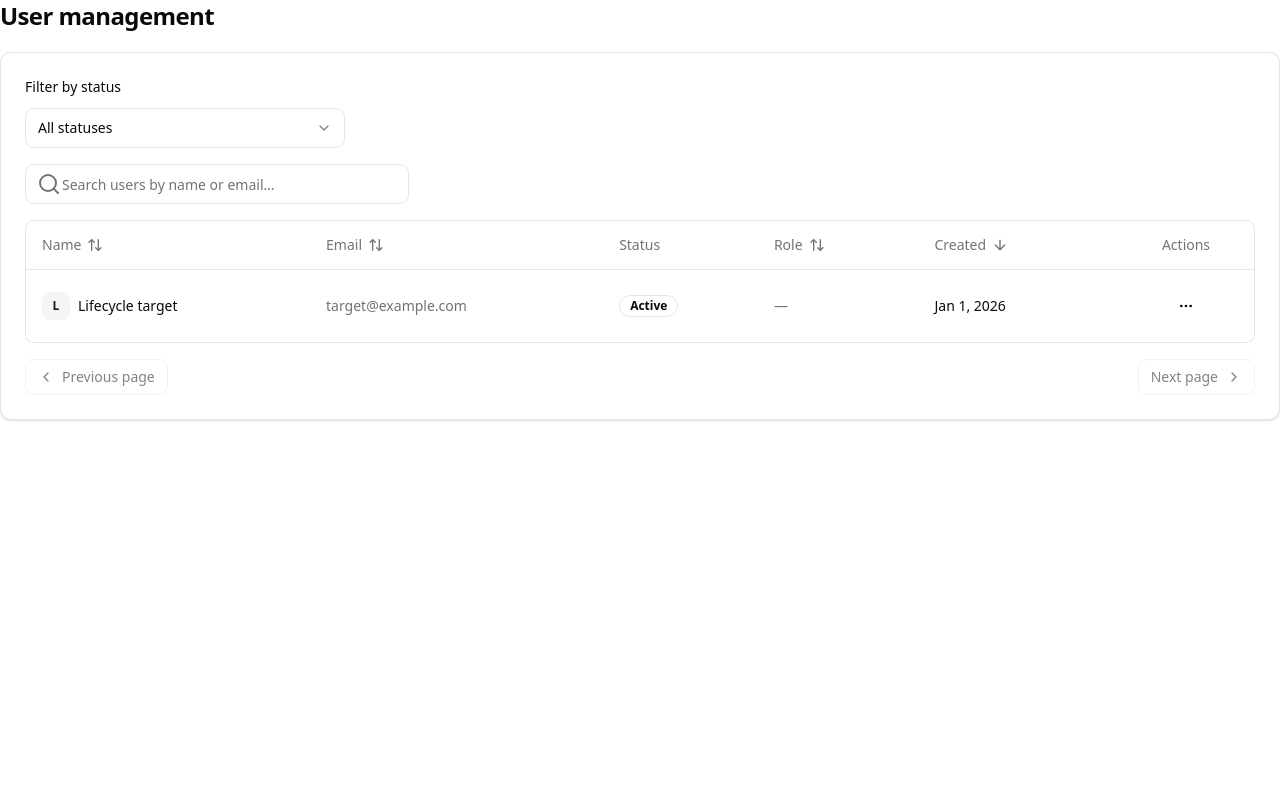
Scenario: requires matching email and confirmation, submits the displayed version, and announces success
Click the button named "More actions" at (1186, 306), box [1166,286,1206,326]
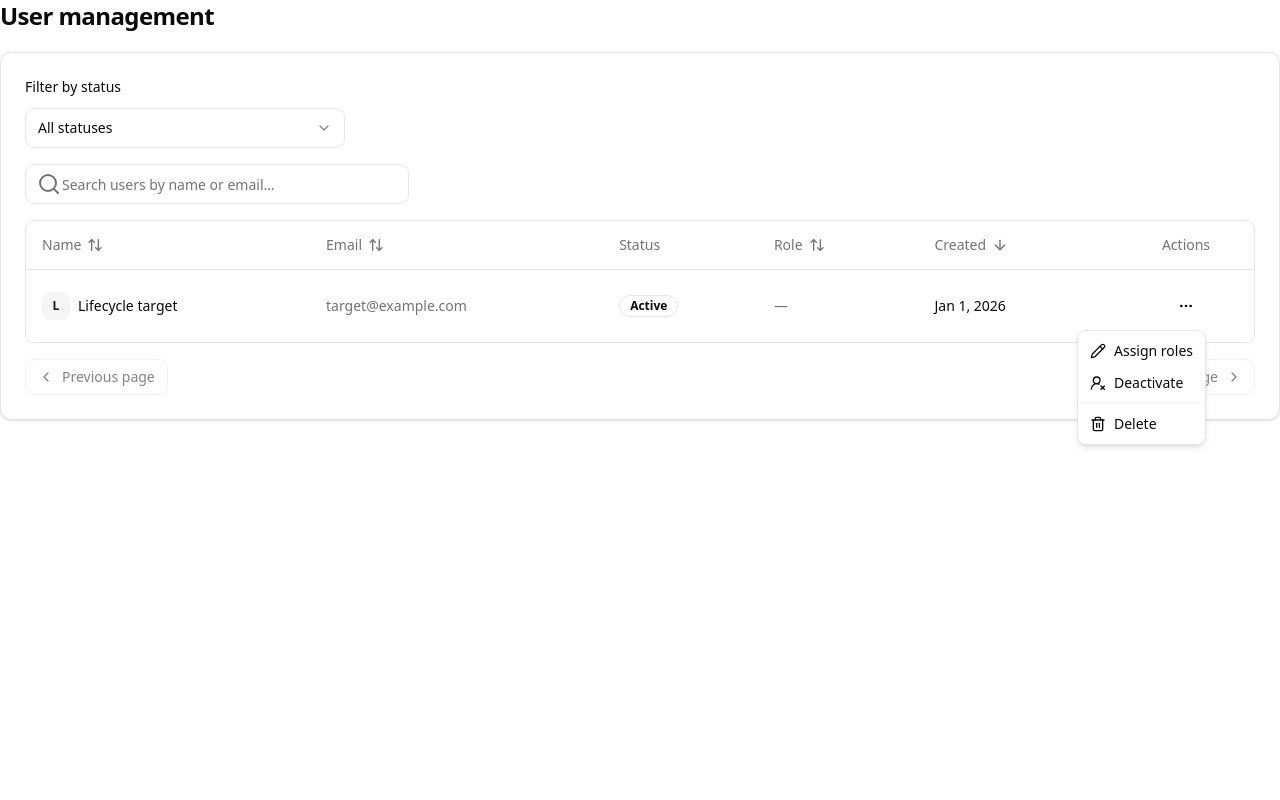
Click the menu item "Delete" at (1123, 424), box [1090,414,1157,433]
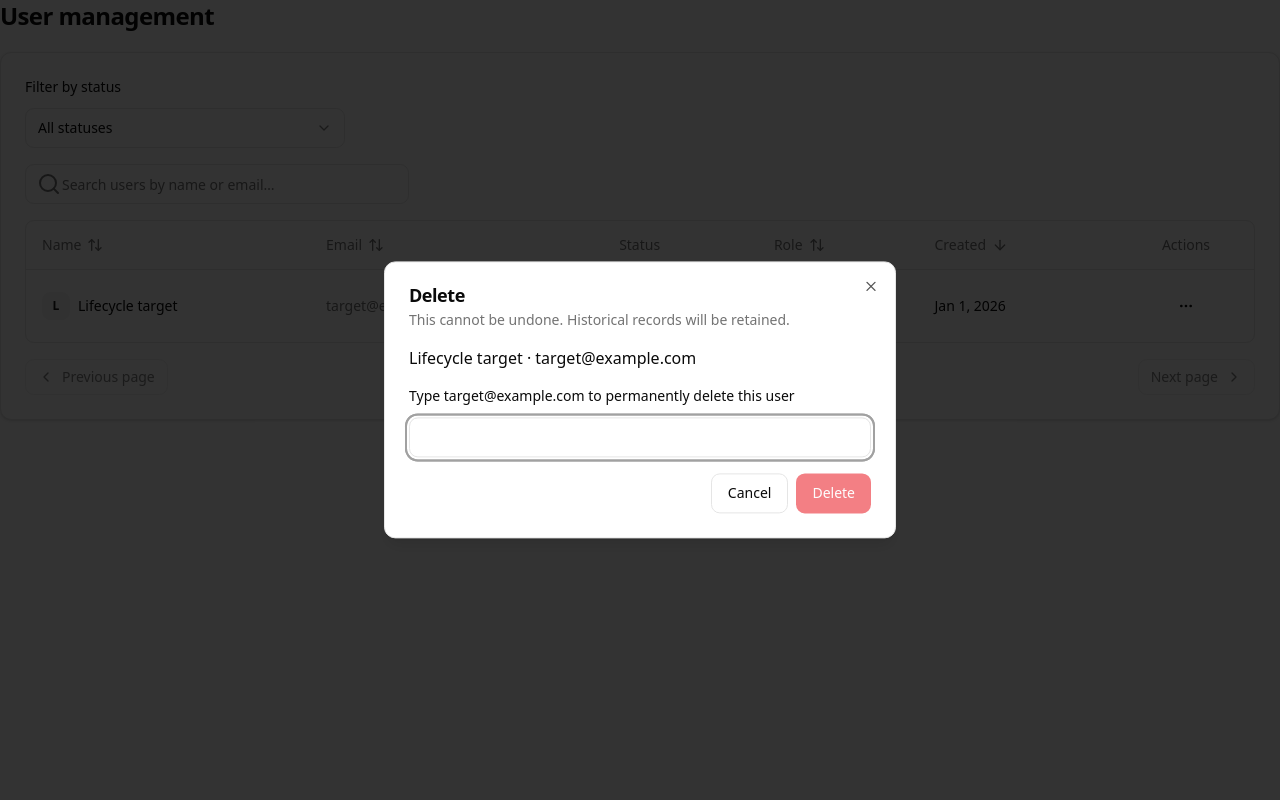
Now the text "This cannot be undone. Historical records will be retained." is shown, box [409,310,790,329]
Now the button "Delete" is disabled, box [796,474,871,514]
Type "wrong@example.com" into the field at (640, 438), box [409,418,871,458]
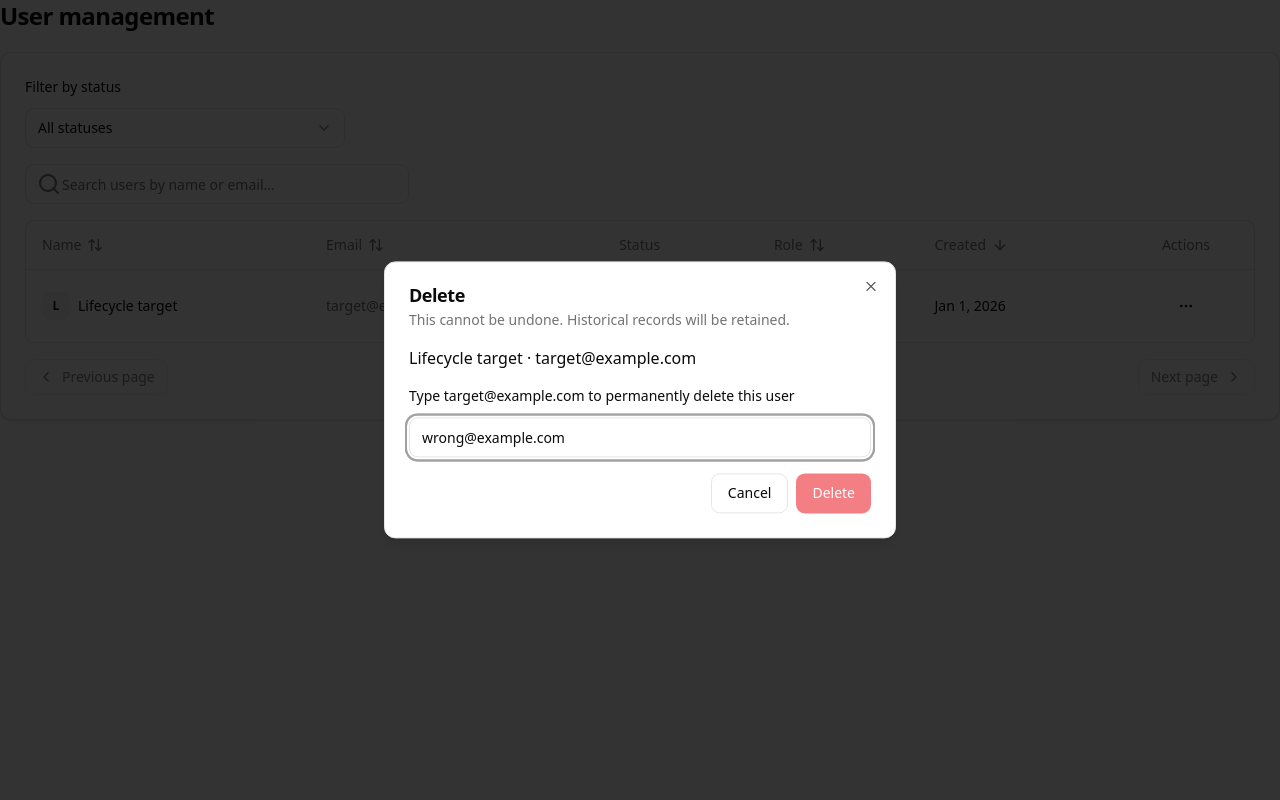
Now the button "Delete" is disabled, box [796,474,871,514]
Replace the text in the field with "target@example.com" at (640, 438), box [409,418,871,458]
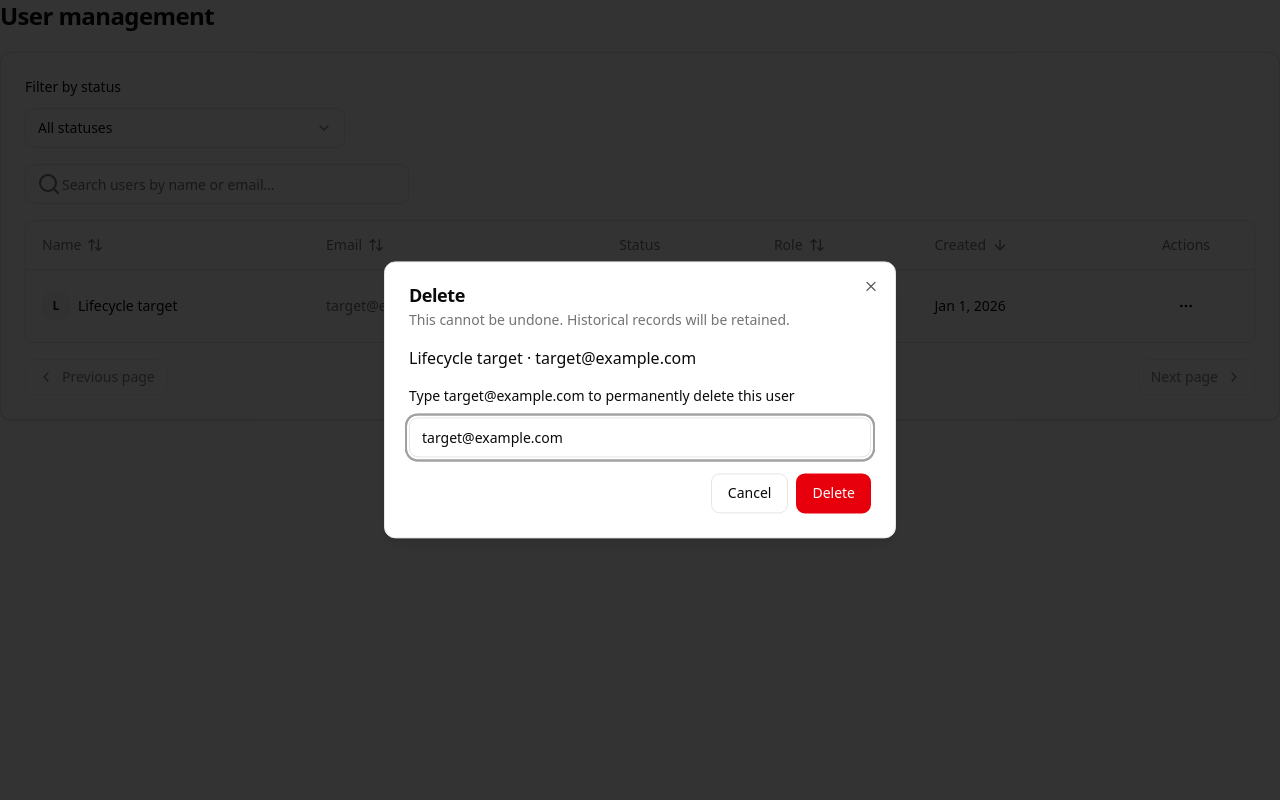
Click the button "Delete" at (834, 494), box [796,474,871,514]
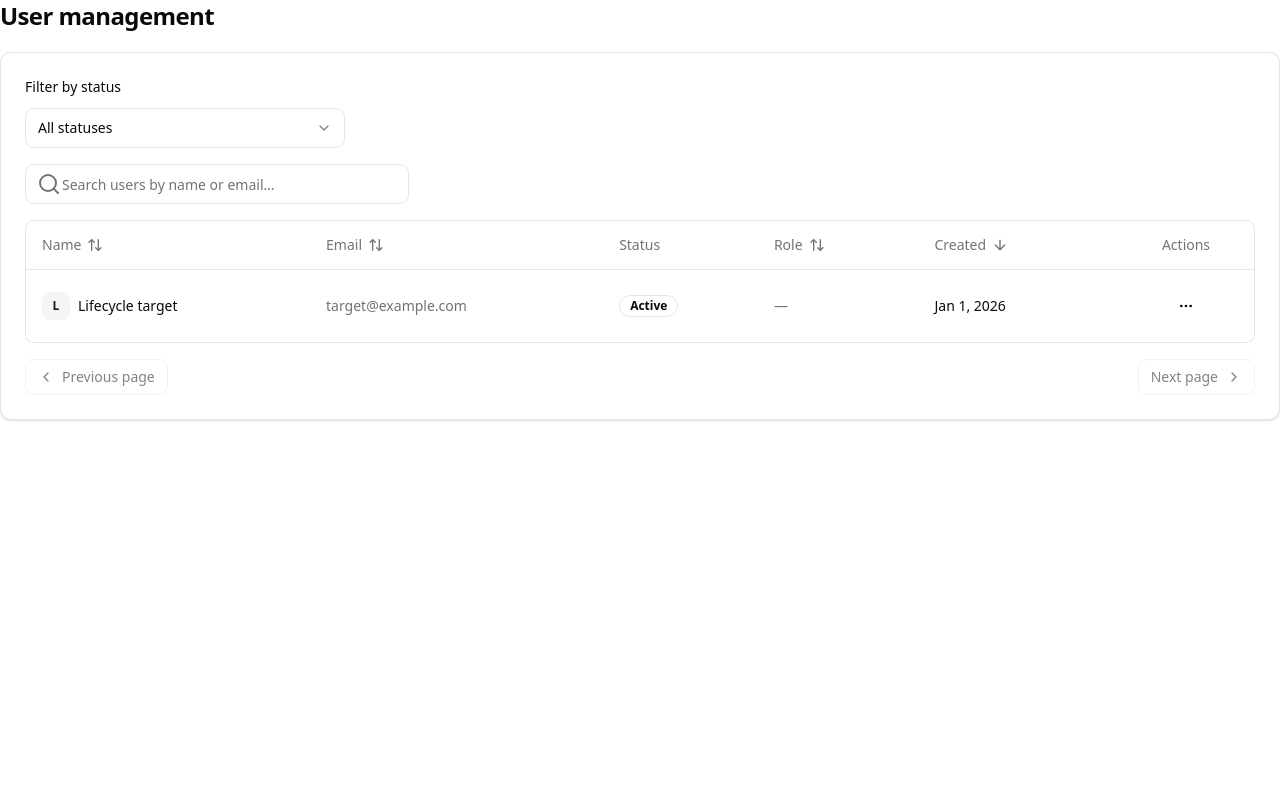
Now the dialog is gone
